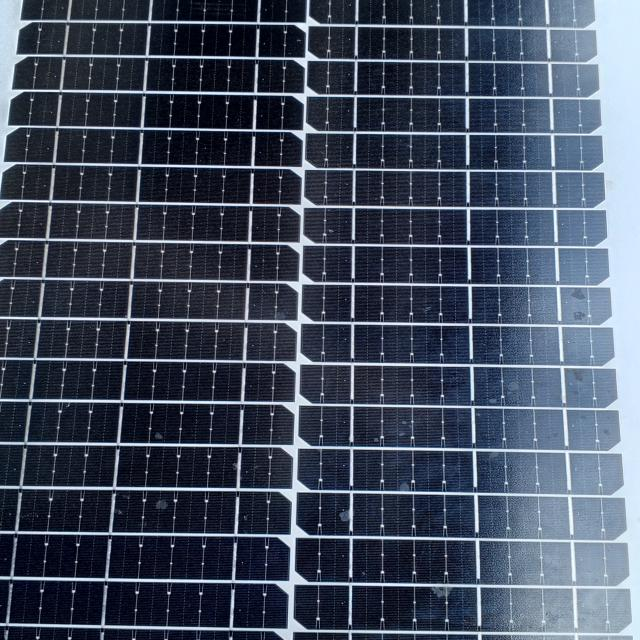Clean: (13, 3, 635, 640)
